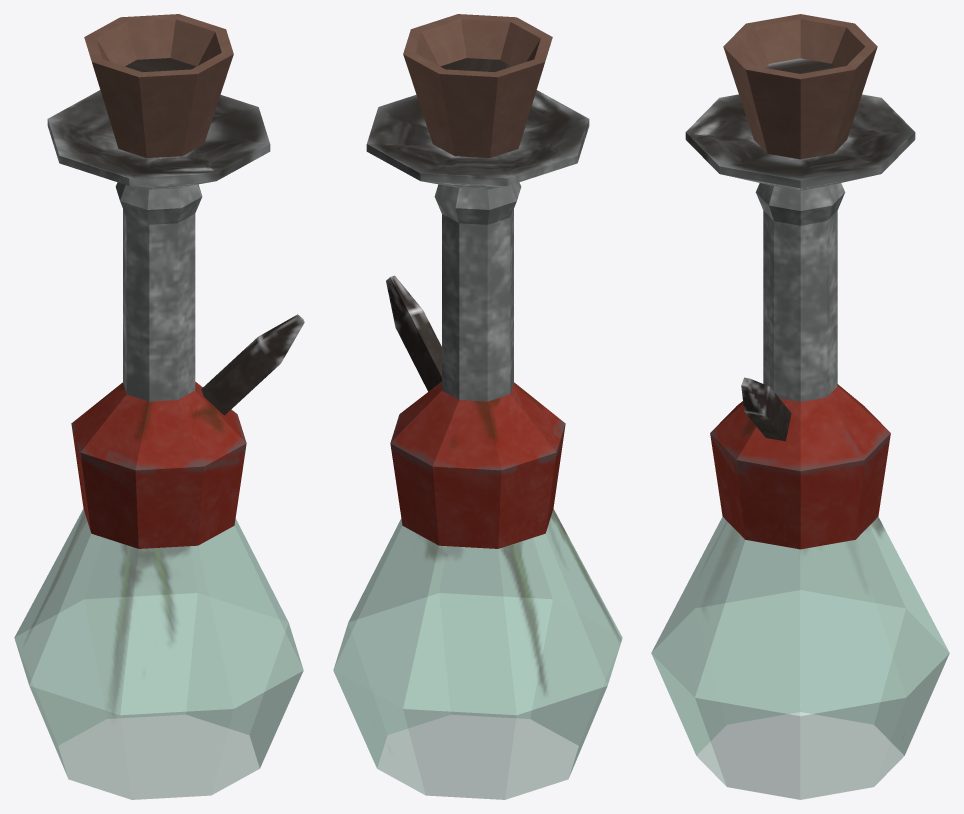
Rendered from NARGHILE.glb.
The picture shows the model from 3 angles, left to right: view 1: azimuth 30°, elevation 25°; view 2: azimuth 150°, elevation 25°; view 3: azimuth 270°, elevation 25°; orthographic projection.
Parts seen in each view (by area): view 1: NARGHILE; view 2: NARGHILE; view 3: NARGHILE.
Part boxes in pixels (box(x1,y1,x2,y2)): NARGHILE: box(14, 14, 304, 799); NARGHILE: box(333, 14, 622, 799); NARGHILE: box(651, 14, 949, 799).
Size of the model in its own units: 0.7667 by 2.01 by 0.7667.
6 materials, 6 textured.
